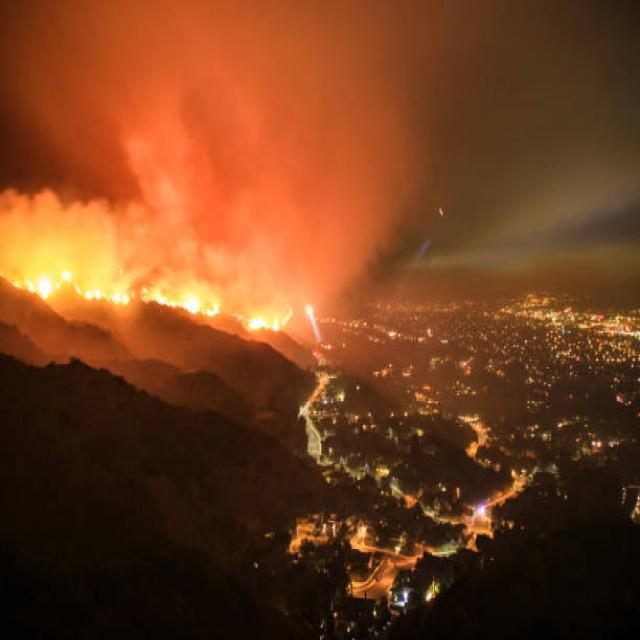Fire: (4, 251, 324, 341)
Smoke: (6, 0, 428, 301)
